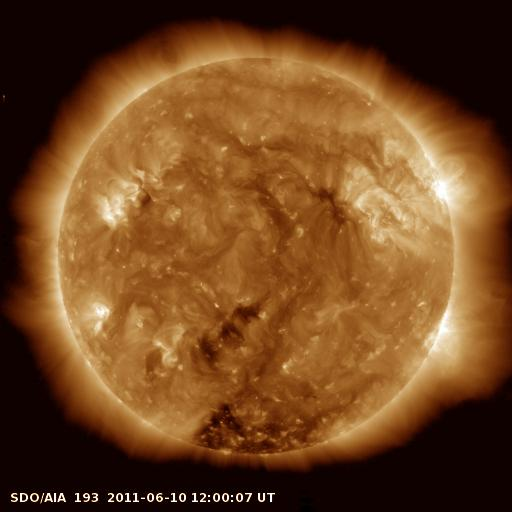coronal_hole: (190, 404, 337, 454), (194, 301, 264, 363)
